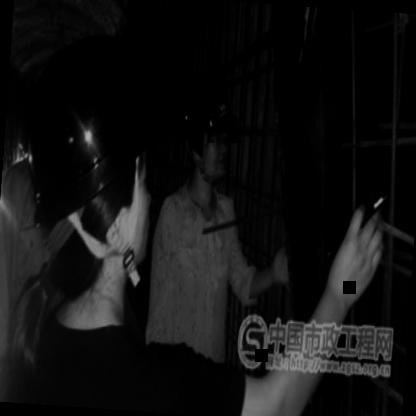helmet: (6, 0, 172, 306), (173, 55, 250, 200)
